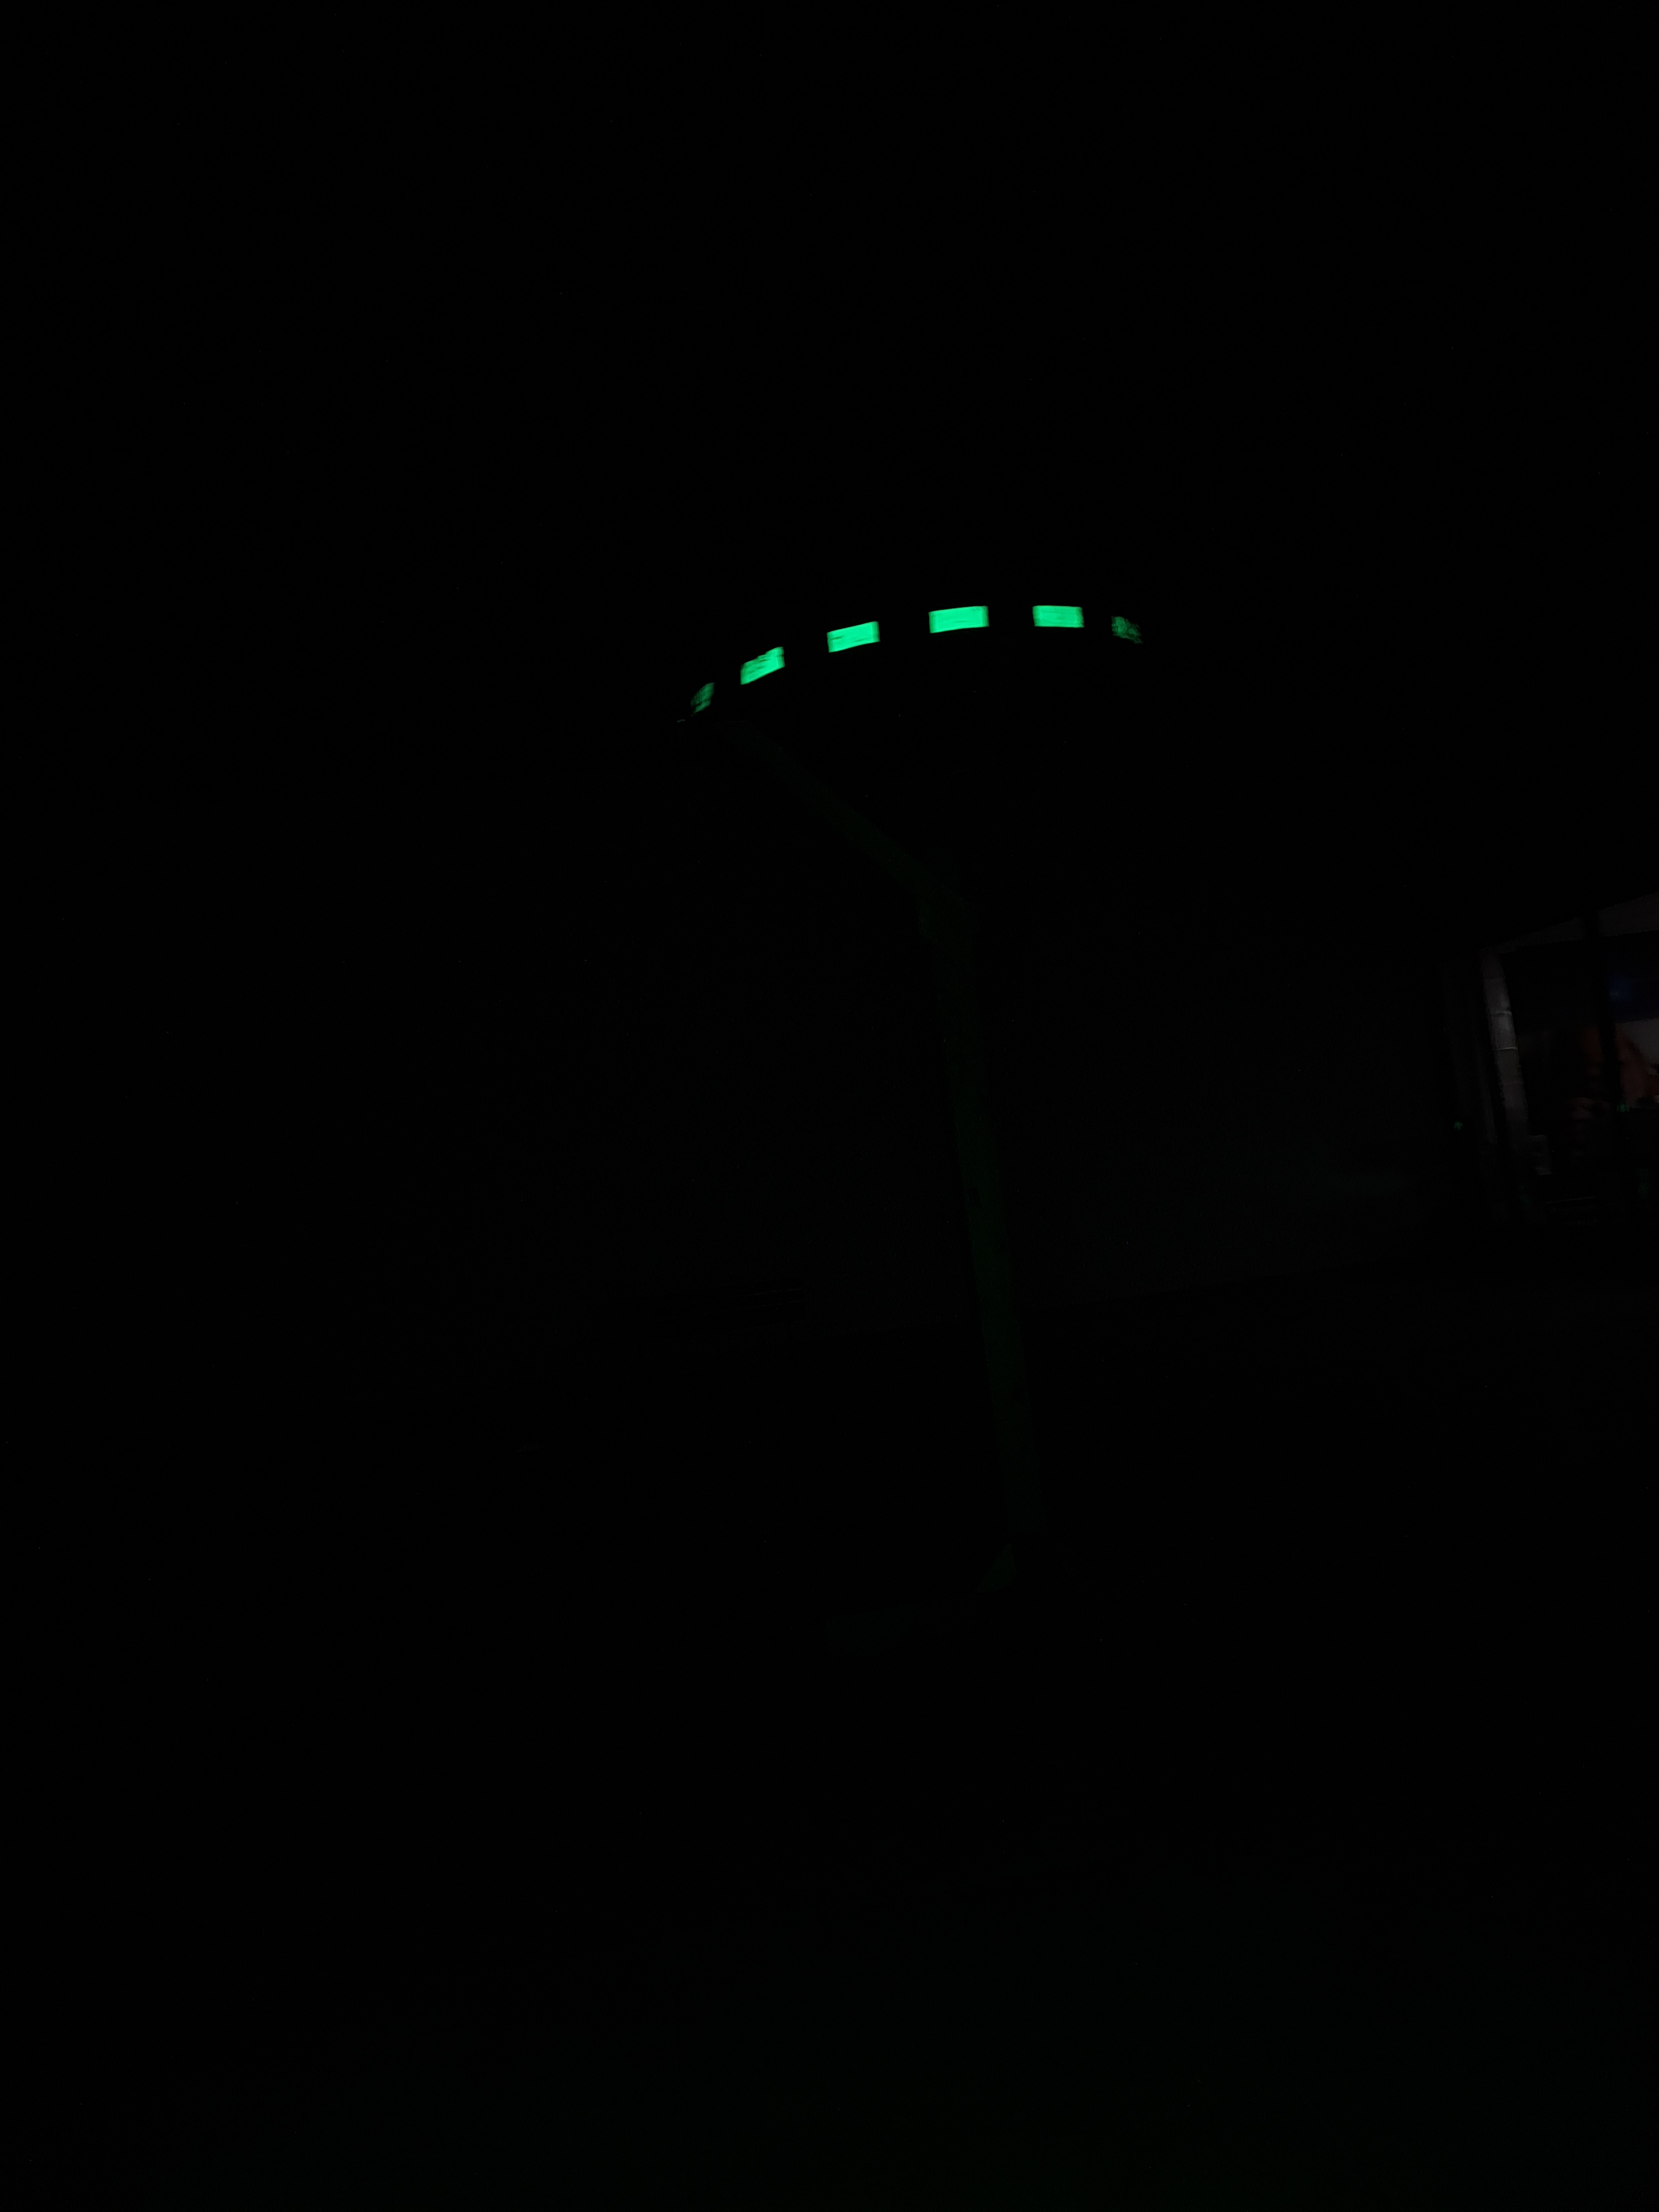hoop: (674, 577, 1166, 742)
